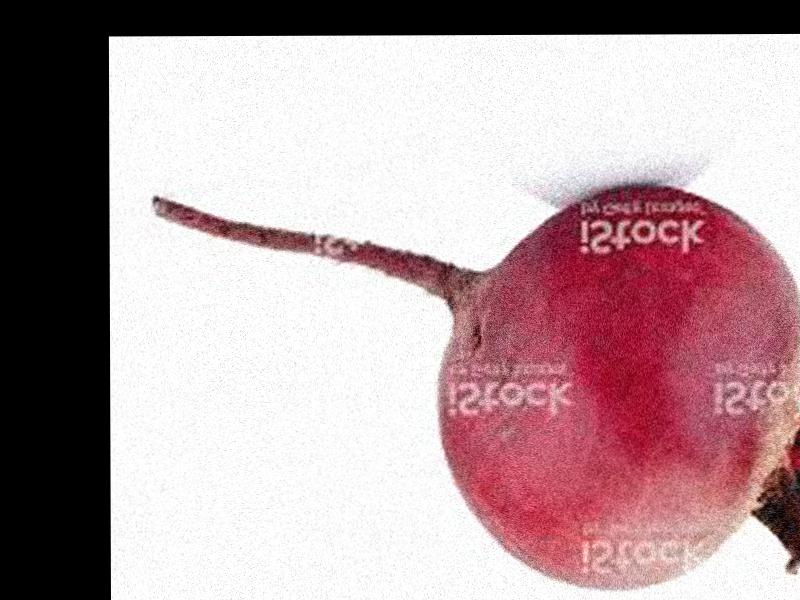Beet: (155, 185, 800, 589)
